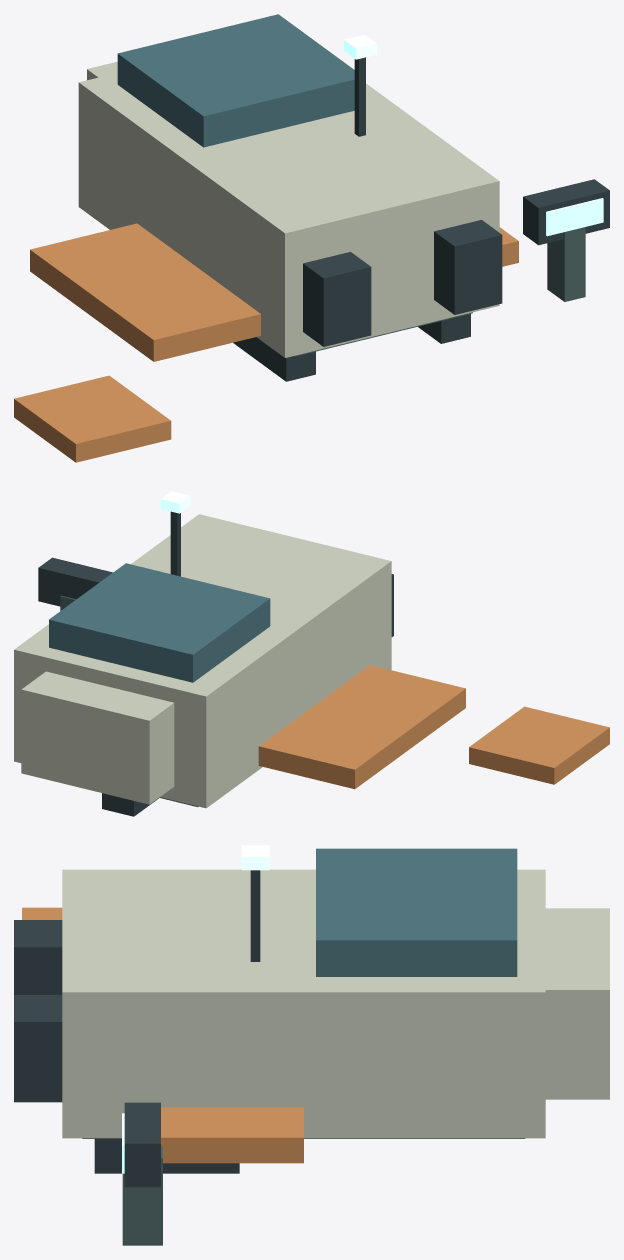
File: ship.glb
The picture shows the model from 3 angles, top to bottom: view 1: azimuth 30°, elevation 25°; view 2: azimuth 150°, elevation 25°; view 3: azimuth 270°, elevation 25°; orthographic projection. The views are drawn at different scales.
Visible parts, largest first — view 1: Ship_Hull, Ship_Cabin, Ship_Port_wing, Ship_Detached_panel, Ship_Engine_left, Ship_Engine_right, Ship_Console, Ship_Console_stand, Ship_Landing_left, Ship_Console_screen, Ship_Landing_right, Ship_Antenna (+1 smaller); view 2: Ship_Hull, Ship_Cabin, Ship_Nose, Ship_Port_wing, Ship_Detached_panel, Ship_Console, Ship_Antenna, Ship_Landing_front, Ship_Data_light; view 3: Ship_Hull, Ship_Cabin, Ship_Nose, Ship_Broken_wing, Ship_Engine_right, Ship_Engine_left, Ship_Console, Ship_Console_stand, Ship_Landing_right, Ship_Antenna, Ship_Data_light.
Boxes of the visible parts, x1=… form: Ship_Hull: x1=78, y1=73, x2=499, y2=357; Ship_Cabin: x1=117, y1=14, x2=354, y2=147; Ship_Port_wing: x1=30, y1=223, x2=260, y2=361; Ship_Detached_panel: x1=14, y1=375, x2=171, y2=462; Ship_Engine_left: x1=303, y1=252, x2=371, y2=346; Ship_Engine_right: x1=434, y1=220, x2=502, y2=314; Ship_Console: x1=523, y1=179, x2=609, y2=245; Ship_Console_stand: x1=547, y1=227, x2=585, y2=301; Ship_Landing_left: x1=233, y1=337, x2=315, y2=381; Ship_Console_screen: x1=546, y1=198, x2=603, y2=236; Ship_Landing_right: x1=418, y1=314, x2=470, y2=343; Ship_Antenna: x1=354, y1=57, x2=365, y2=136; Ship_Hull: x1=14, y1=514, x2=391, y2=808; Ship_Cabin: x1=49, y1=563, x2=270, y2=682; Ship_Nose: x1=21, y1=671, x2=174, y2=804; Ship_Port_wing: x1=258, y1=665, x2=465, y2=789; Ship_Detached_panel: x1=469, y1=706, x2=609, y2=784; Ship_Console: x1=38, y1=557, x2=112, y2=606; Ship_Antenna: x1=170, y1=511, x2=180, y2=576; Ship_Landing_front: x1=102, y1=793, x2=158, y2=816; Ship_Data_light: x1=161, y1=491, x2=190, y2=513; Ship_Hull: x1=62, y1=869, x2=545, y2=1138; Ship_Cabin: x1=316, y1=848, x2=517, y2=976; Ship_Nose: x1=545, y1=908, x2=609, y2=1099; Ship_Broken_wing: x1=161, y1=1107, x2=303, y2=1163; Ship_Engine_right: x1=14, y1=995, x2=62, y2=1102; Ship_Engine_left: x1=14, y1=920, x2=62, y2=994; Ship_Console: x1=124, y1=1102, x2=160, y2=1187; Ship_Console_stand: x1=122, y1=1146, x2=162, y2=1245; Ship_Landing_right: x1=94, y1=1138, x2=239, y2=1173; Ship_Antenna: x1=250, y1=870, x2=260, y2=961; Ship_Data_light: x1=241, y1=845, x2=269, y2=870.
Bounding box in the file's own units: 9.7 × 4.09 × 7.4.
